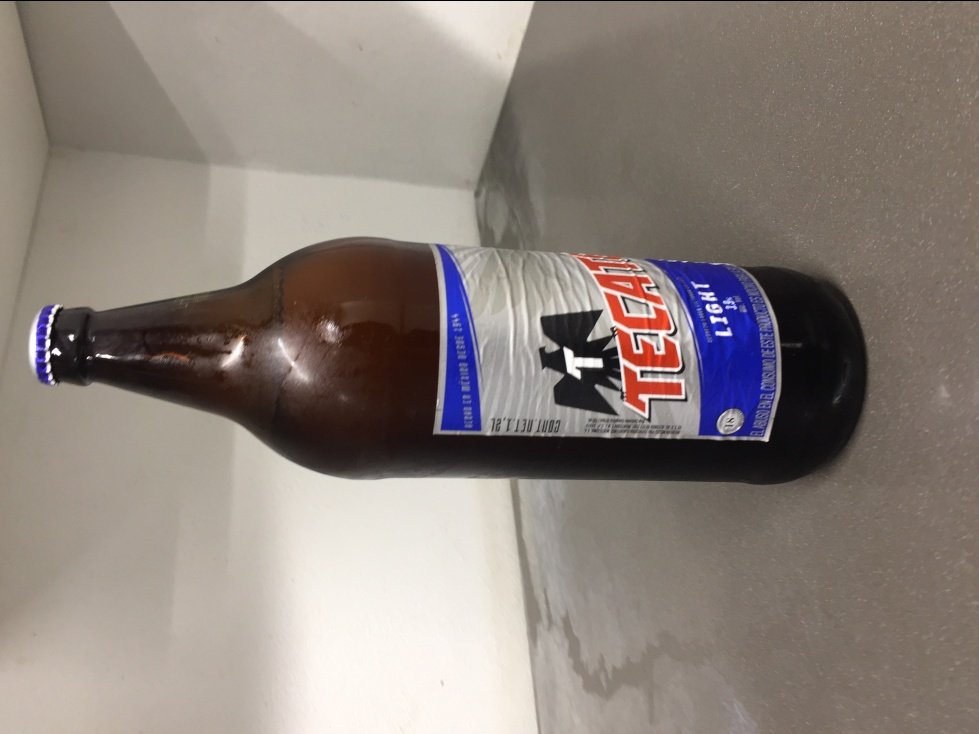tecateC: (31, 232, 867, 485)
